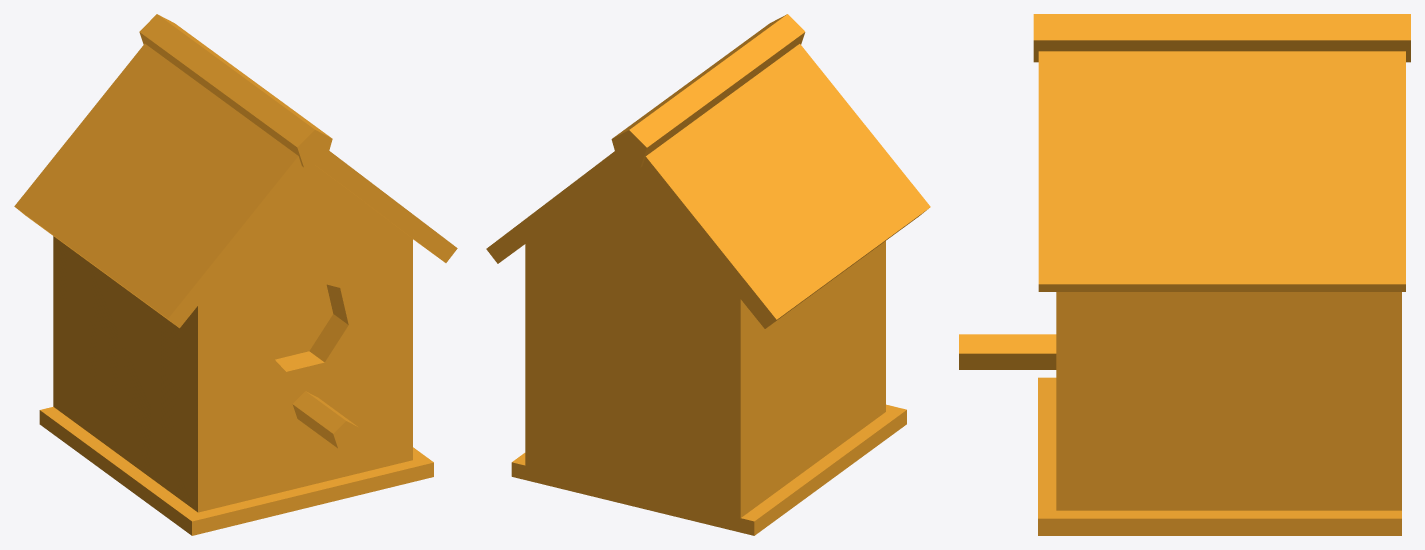
The model's file is SM_Birdhouse_A.fbx.
The picture shows the model from 3 angles, left to right: view 1: azimuth 30°, elevation 25°; view 2: azimuth 150°, elevation 25°; view 3: azimuth 270°, elevation 25°; orthographic projection. The views are drawn at different scales.
Parts seen in each view (by area): view 1: birdhouse-a; view 2: birdhouse-a; view 3: birdhouse-a.
Boxes of the visible parts, x1,y1,x2,y2 form: birdhouse-a: (14,14,457,535); birdhouse-a: (486,14,930,535); birdhouse-a: (959,14,1410,535).
Bounding box in the file's own units: 0.1605 × 0.2002 × 0.1816.
